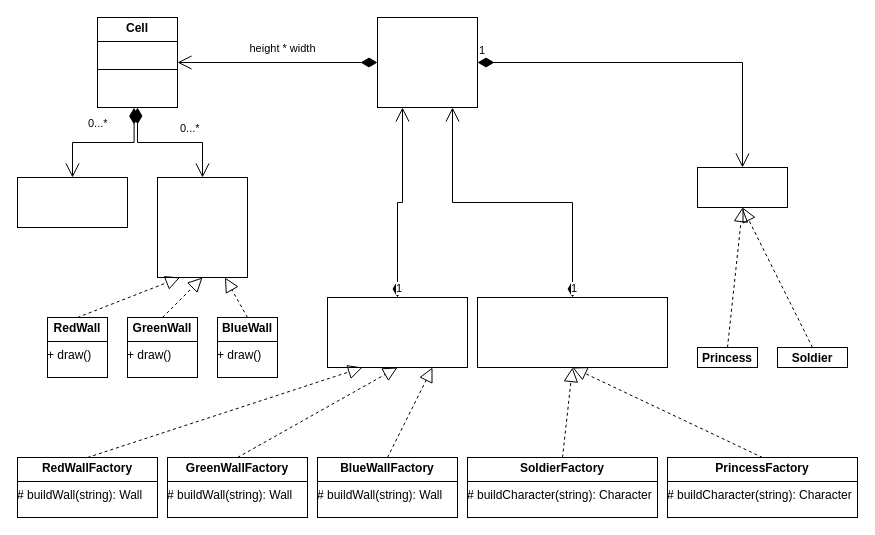
Image size: 875x535. Some labels were removed from this diagram. Each missing label, with the centre of its shape:
"<<Interface>> Character" goes at point 742,187.
"<<Interface>> Wall + draw()" goes at point 202,227.
"Maze + width: Integer + height: Integer + createMaze()" goes at point 427,62.
"«interface» CharacterFactory # buildCharacter(string): Character" goes at point 572,332.
"«interface» Entries" goes at point 72,202.
"«interface» WallFactory # buildWall(string): Wall" goes at point 397,332.
